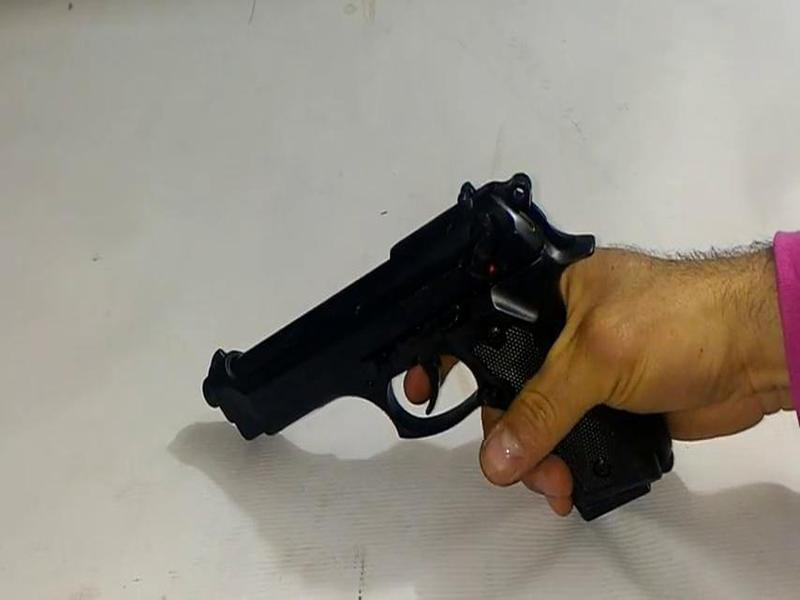Pistola: (200, 163, 674, 544)
